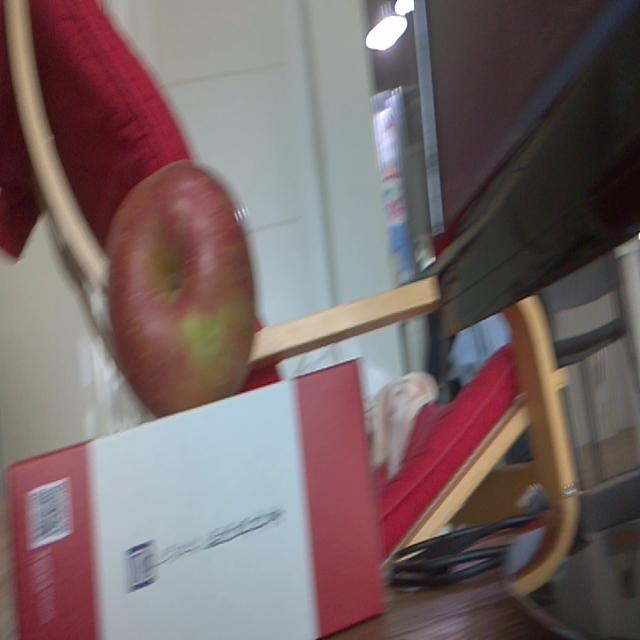apple: (105, 162, 255, 415)
